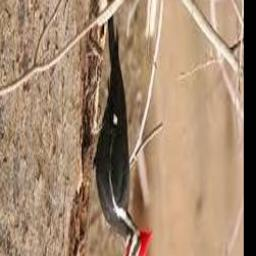Woodpecker: (94, 14, 153, 256)
